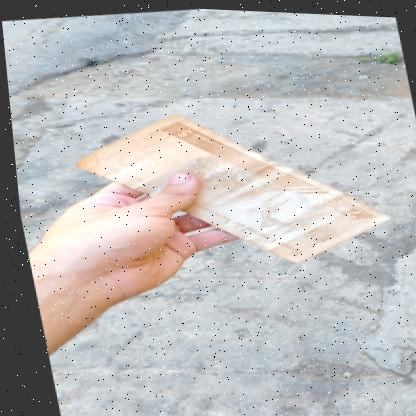five-back-vef: (61, 86, 397, 285)
